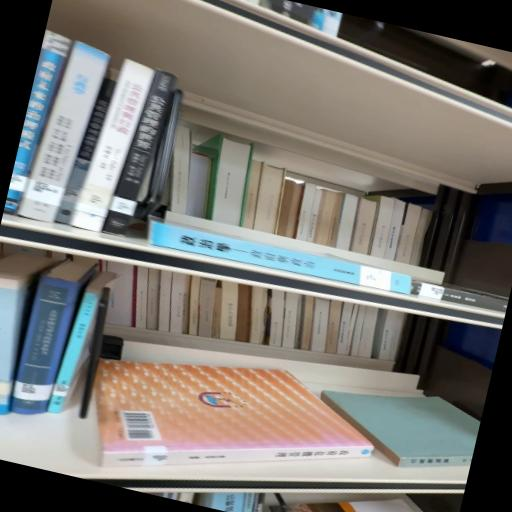flat: (94, 361, 374, 467), (148, 219, 412, 295), (321, 392, 481, 469), (411, 280, 509, 314)
